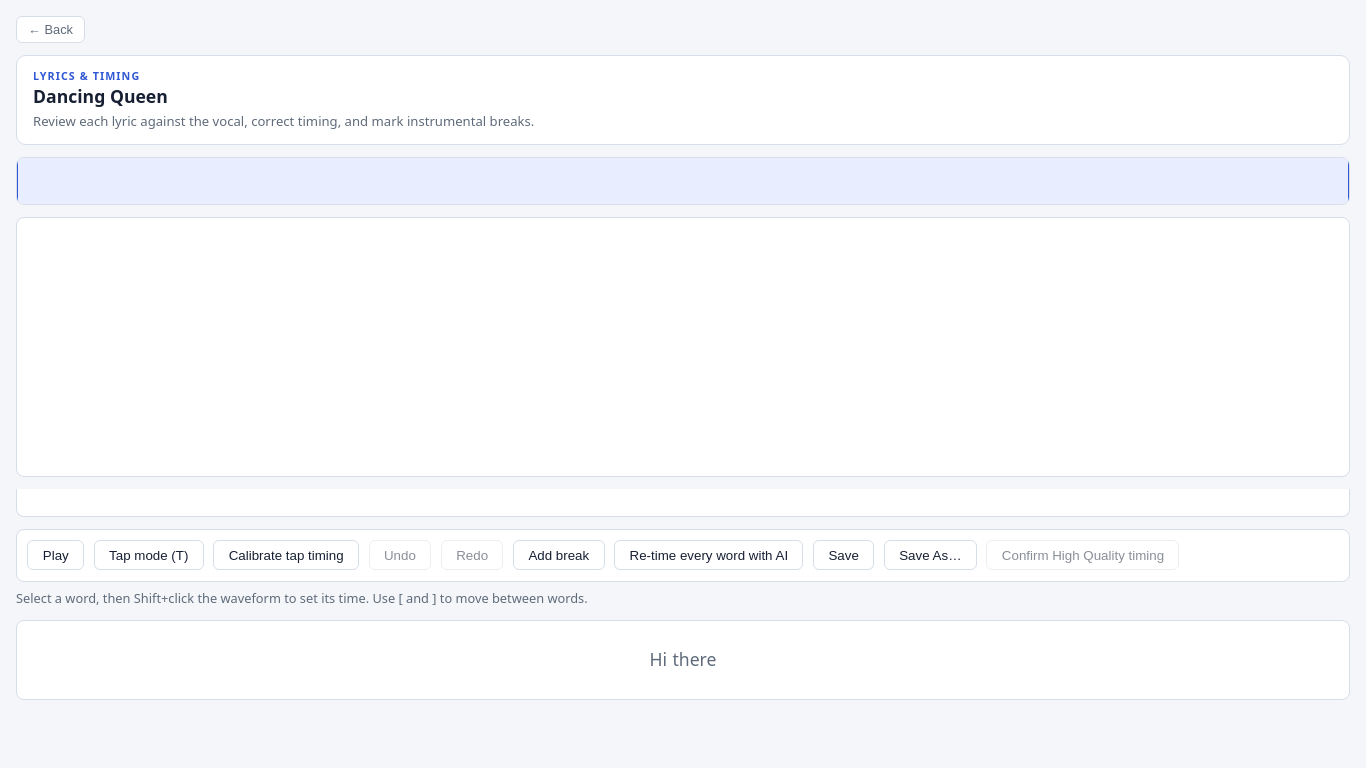
LyricEditor › undoing back to the original content clears the dirty marker (dirty is a baseline comparison, not an edit-happened flag)
Click the button "Hi" at coordinates (658, 660), box x1=647 y1=644 x2=670 y2=676
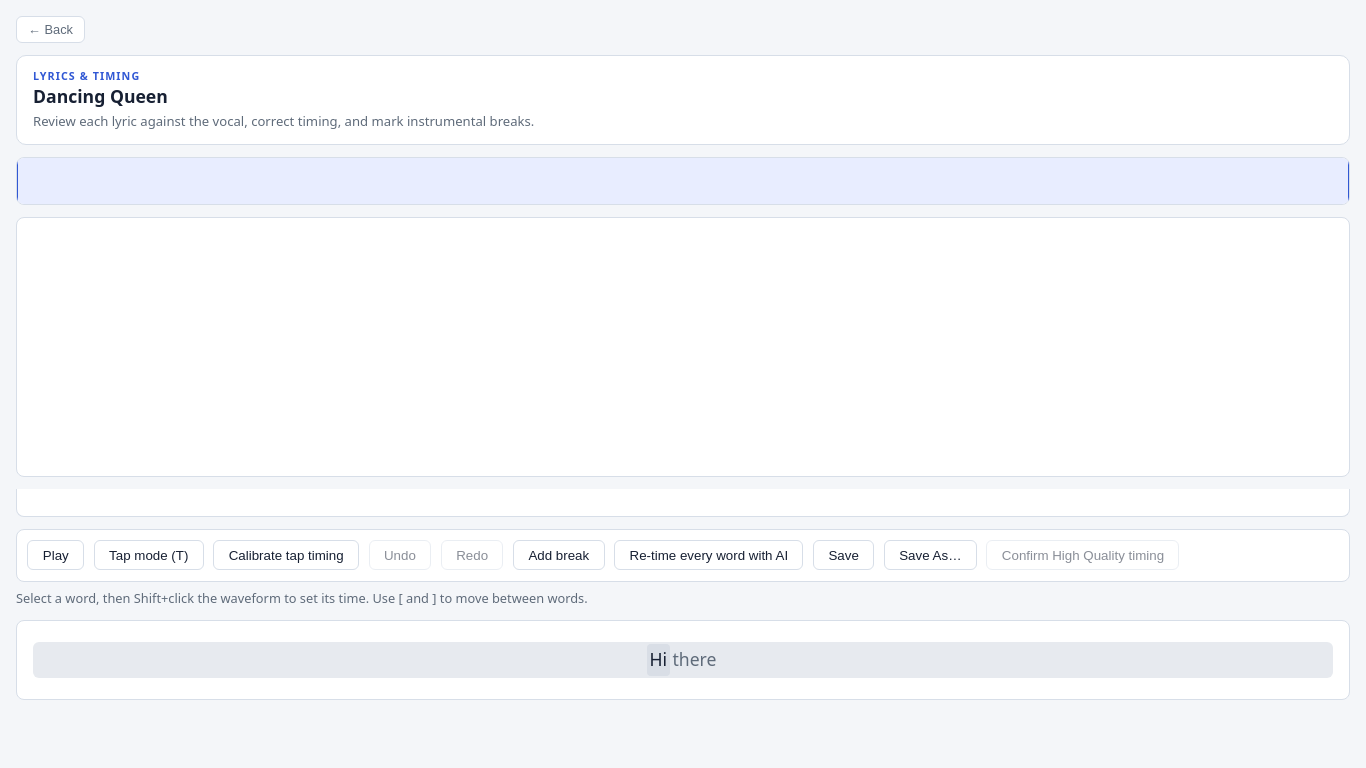
Press ArrowRight
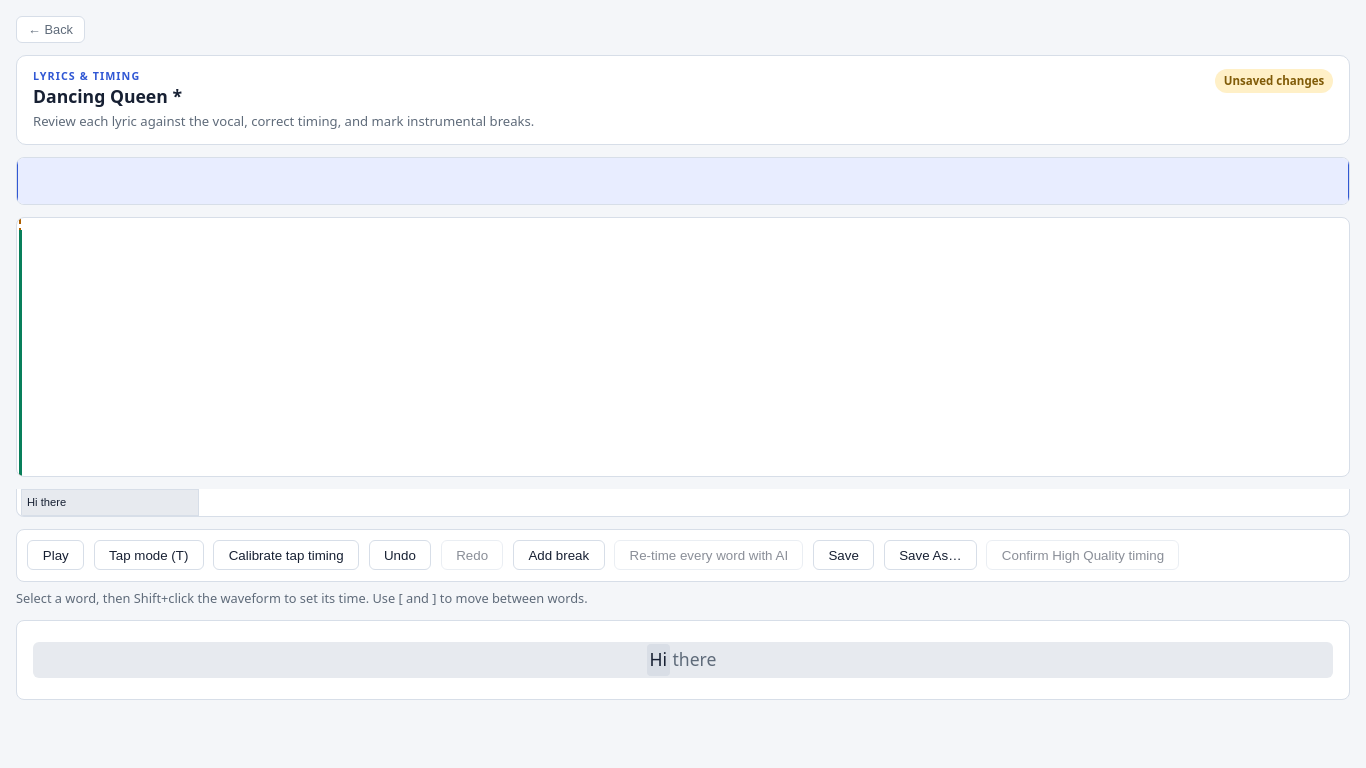
Now the text "Unsaved changes" is shown, box x1=1215 y1=69 x2=1333 y2=93
Press z
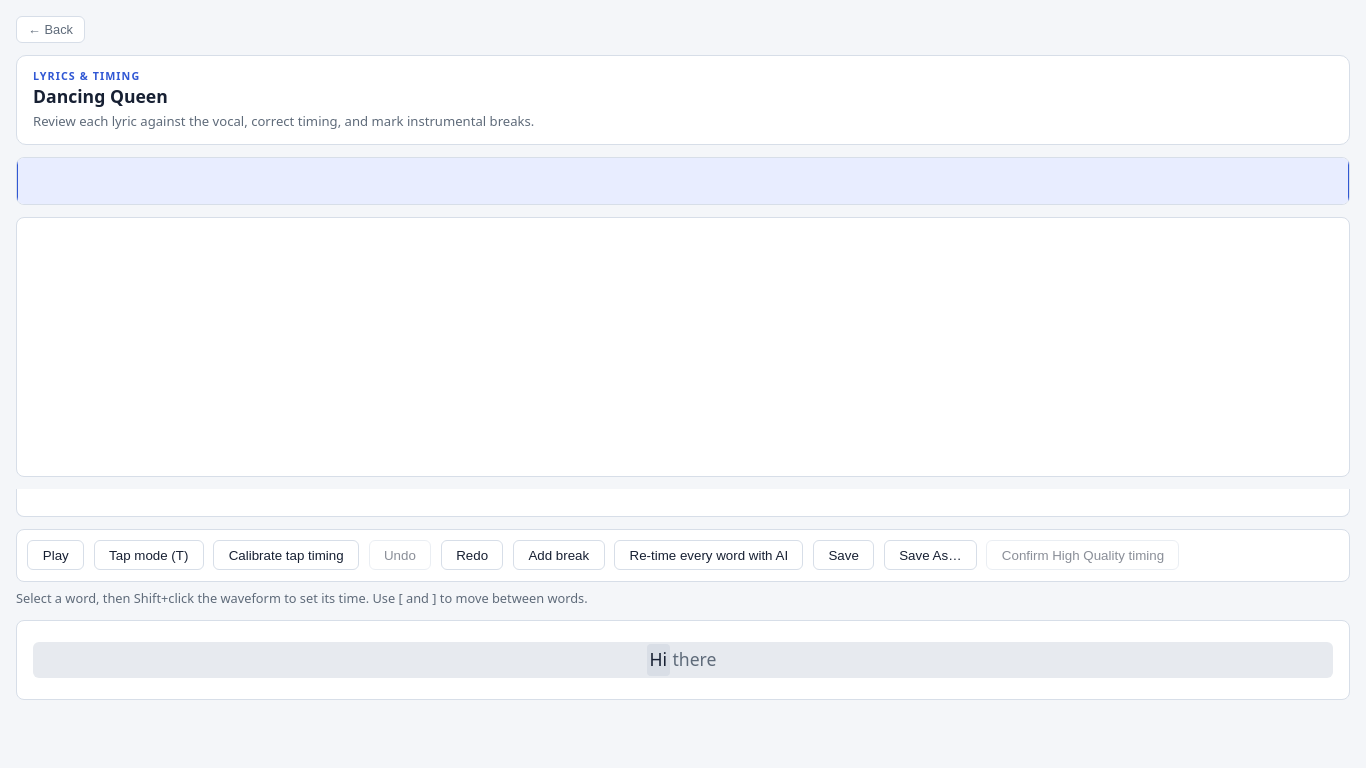
Now the text "Unsaved changes" is gone
